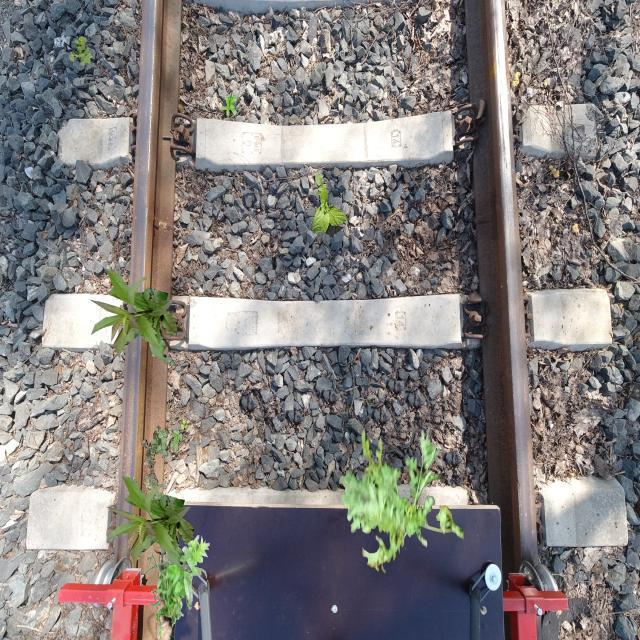Plant: (339, 427, 464, 574), (89, 268, 178, 366), (106, 475, 194, 572), (145, 529, 210, 636), (141, 418, 190, 522), (312, 173, 348, 236), (69, 36, 93, 66), (220, 93, 238, 117)
